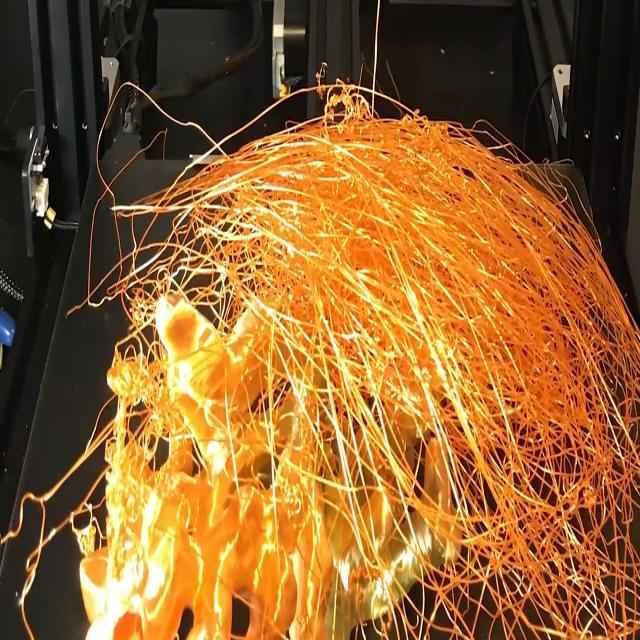spaghetti: (2, 50, 640, 637)
